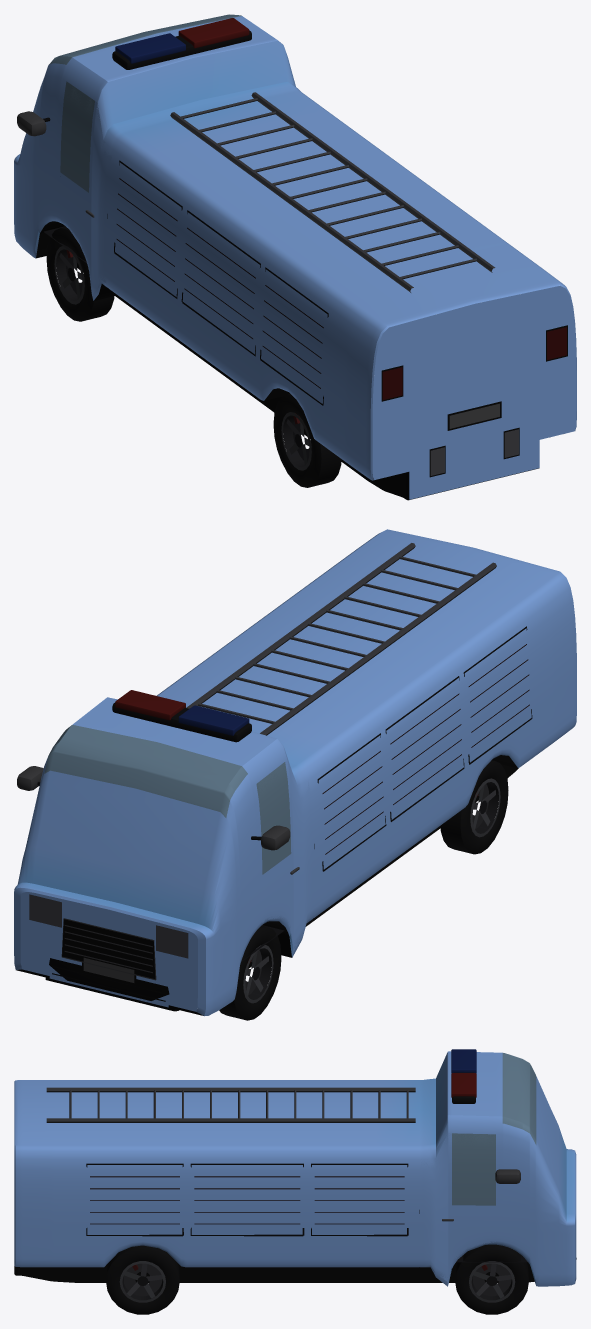
Rendered from cv2_firetruck.glb.
3 renders of one model, top to bottom at view 1: azimuth 30°, elevation 25°; view 2: azimuth 150°, elevation 25°; view 3: azimuth 270°, elevation 25°, orthographic. The views are drawn at different scales.
Parts seen in each view (by area): view 1: Body, DoorL_Mesh; view 2: Body, DoorL_Mesh; view 3: Body, DoorR_Mesh.
Boxes of the visible parts, <box> form: Body: <box>14,14,576,500</box>; DoorL_Mesh: <box>60,81,111,291</box>; Body: <box>14,529,576,1020</box>; DoorL_Mesh: <box>256,760,314,950</box>; Body: <box>14,1049,576,1314</box>; DoorR_Mesh: <box>420,1133,495,1281</box>.
Size of what is drawn, in the model's own units: 2.89 by 2.87 by 7.01.
